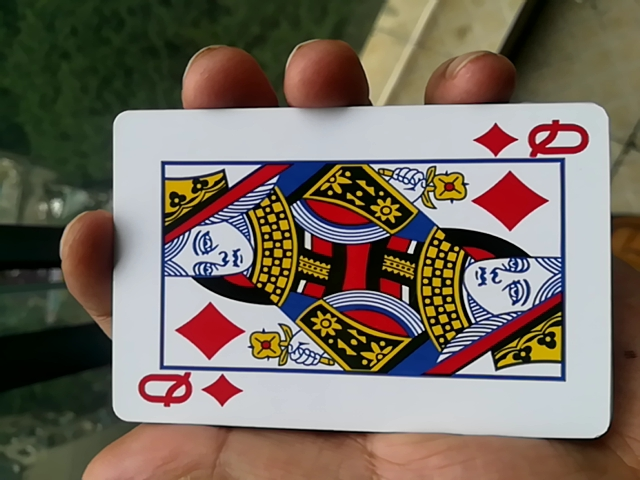fk q: (96, 106, 611, 445)
